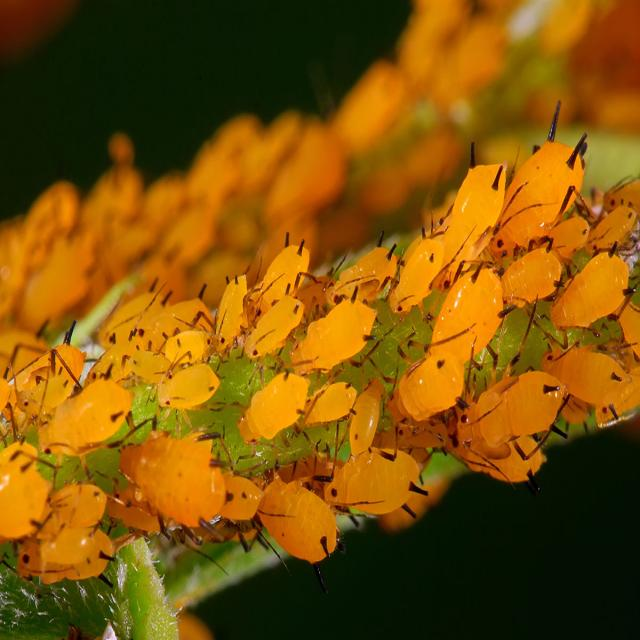Aphid-Grouped-: (0, 123, 630, 583)
Aphid-Grown-: (318, 428, 438, 530), (441, 360, 567, 457), (427, 139, 509, 283), (418, 262, 518, 376), (243, 462, 335, 576), (283, 276, 381, 383), (28, 378, 144, 467), (238, 357, 314, 459), (146, 351, 225, 422), (500, 228, 568, 310), (206, 250, 256, 354)
